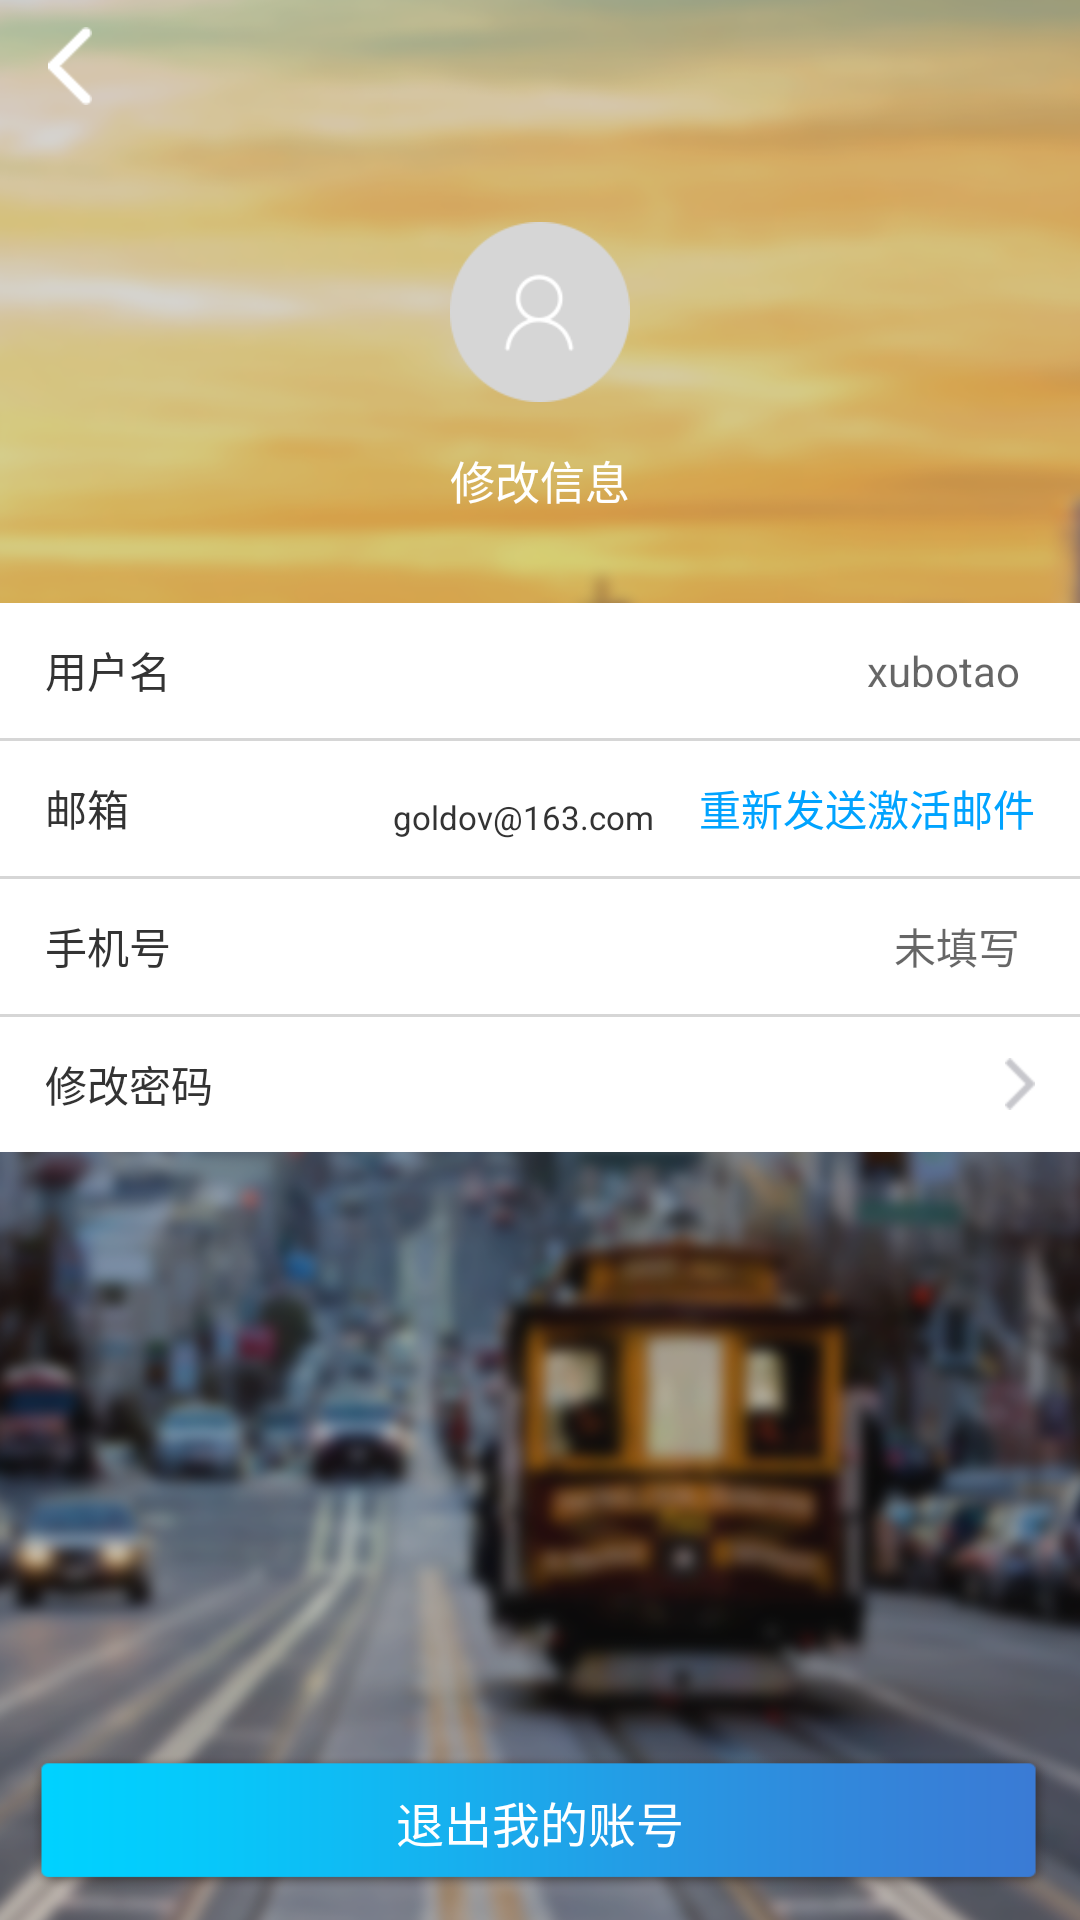

Screen size 1080 x 1920. Icon name, then its box in pixels as (x1, y1, x2, y2):
back: (48, 27, 92, 105)
next: (1005, 1058, 1035, 1110)
